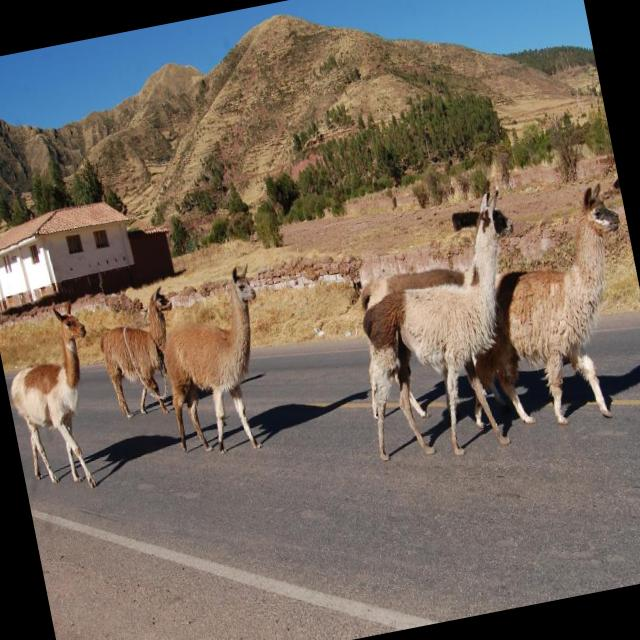alpaca: (328, 180, 552, 470), (432, 179, 640, 431), (147, 264, 284, 460), (0, 293, 116, 503), (88, 281, 194, 424)
